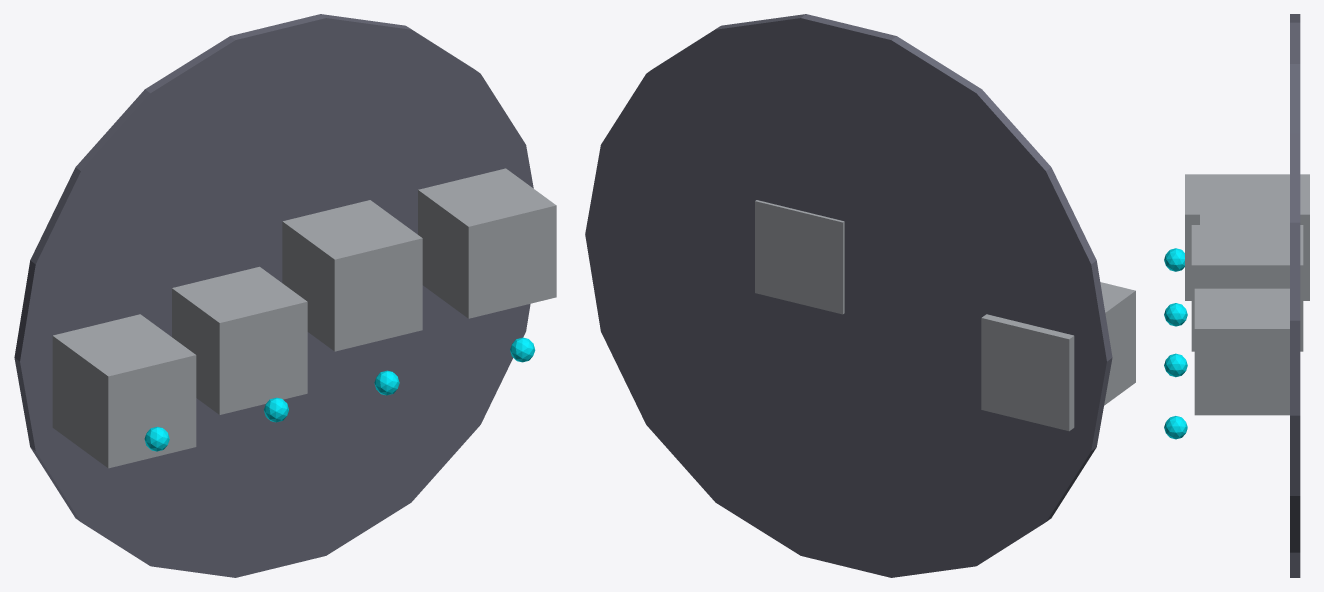
Rendered from 02_local_prop_cluster.glb.
3 views of the same model, side by side, from view 1: azimuth 30°, elevation 25°; view 2: azimuth 150°, elevation 25°; view 3: azimuth 270°, elevation 25° (orthographic). The views are drawn at different scales.
Parts seen in each view (by area): view 1: scatter_base, tech_crate_0, tech_crate_3, tech_crate_2, tech_crate_1; view 2: scatter_base, tech_crate_0, tech_crate_2; view 3: tech_crate_3, tech_crate_2, scatter_base, tech_crate_0, tech_crate_1, status_light_1, status_light_2, status_light_3, status_light_0.
Boxes of the visible parts, x1,y1,x2,y2 form: scatter_base: [14, 14, 533, 577]; tech_crate_0: [52, 314, 196, 468]; tech_crate_3: [418, 168, 556, 318]; tech_crate_2: [282, 200, 422, 351]; tech_crate_1: [172, 266, 307, 414]; scatter_base: [585, 14, 1112, 577]; tech_crate_0: [981, 282, 1135, 431]; tech_crate_2: [755, 200, 844, 314]; tech_crate_3: [1194, 288, 1289, 415]; tech_crate_2: [1191, 225, 1303, 351]; scatter_base: [1290, 14, 1300, 577]; tech_crate_0: [1185, 174, 1309, 300]; tech_crate_1: [1200, 211, 1289, 224]; status_light_1: [1164, 303, 1187, 326]; status_light_2: [1164, 353, 1187, 377]; status_light_3: [1164, 416, 1187, 439]; status_light_0: [1164, 248, 1184, 271].
Size of the model in its own units: 1.9 by 1.87 by 0.4898.
